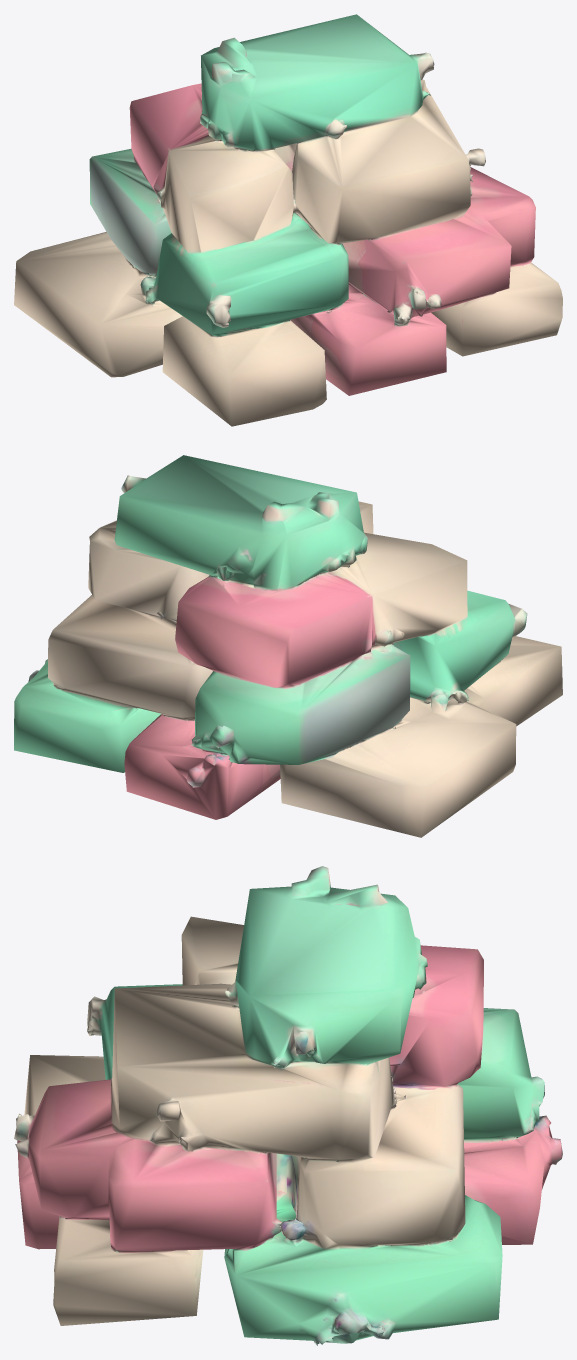
File: blocks-water.glb
The picture shows the model from 3 angles, top to bottom: view 1: azimuth 30°, elevation 25°; view 2: azimuth 150°, elevation 25°; view 3: azimuth 270°, elevation 25°; orthographic projection. The views are drawn at different scales.
Visible parts, largest first — view 1: Mesh_0; view 2: Mesh_0; view 3: Mesh_0.
Boxes of the visible parts, left/top/right/bottom form: Mesh_0: left=14, top=14, right=562, bottom=426; Mesh_0: left=14, top=455, right=562, bottom=837; Mesh_0: left=14, top=866, right=562, bottom=1345.
Bounding box in the file's own units: 1.85 × 1.06 × 1.65.
1 material, 1 textured.
